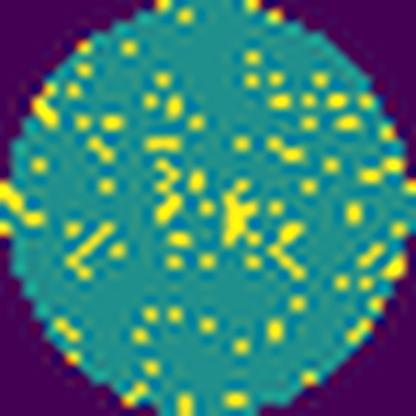Center: (143, 152, 257, 253)
